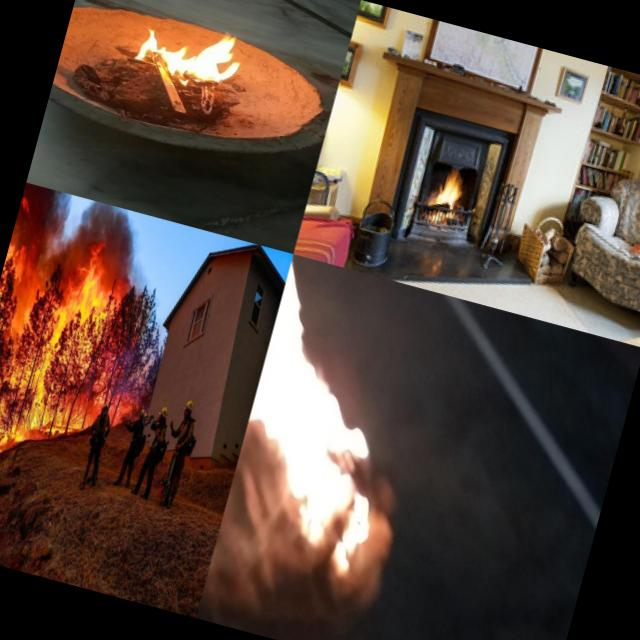fire: (216, 254, 434, 576), (0, 304, 120, 452), (121, 5, 260, 105), (48, 246, 122, 335), (0, 182, 43, 309), (9, 260, 60, 319), (428, 156, 474, 218), (0, 427, 28, 464)
smoke: (5, 182, 80, 272), (64, 196, 146, 278)
